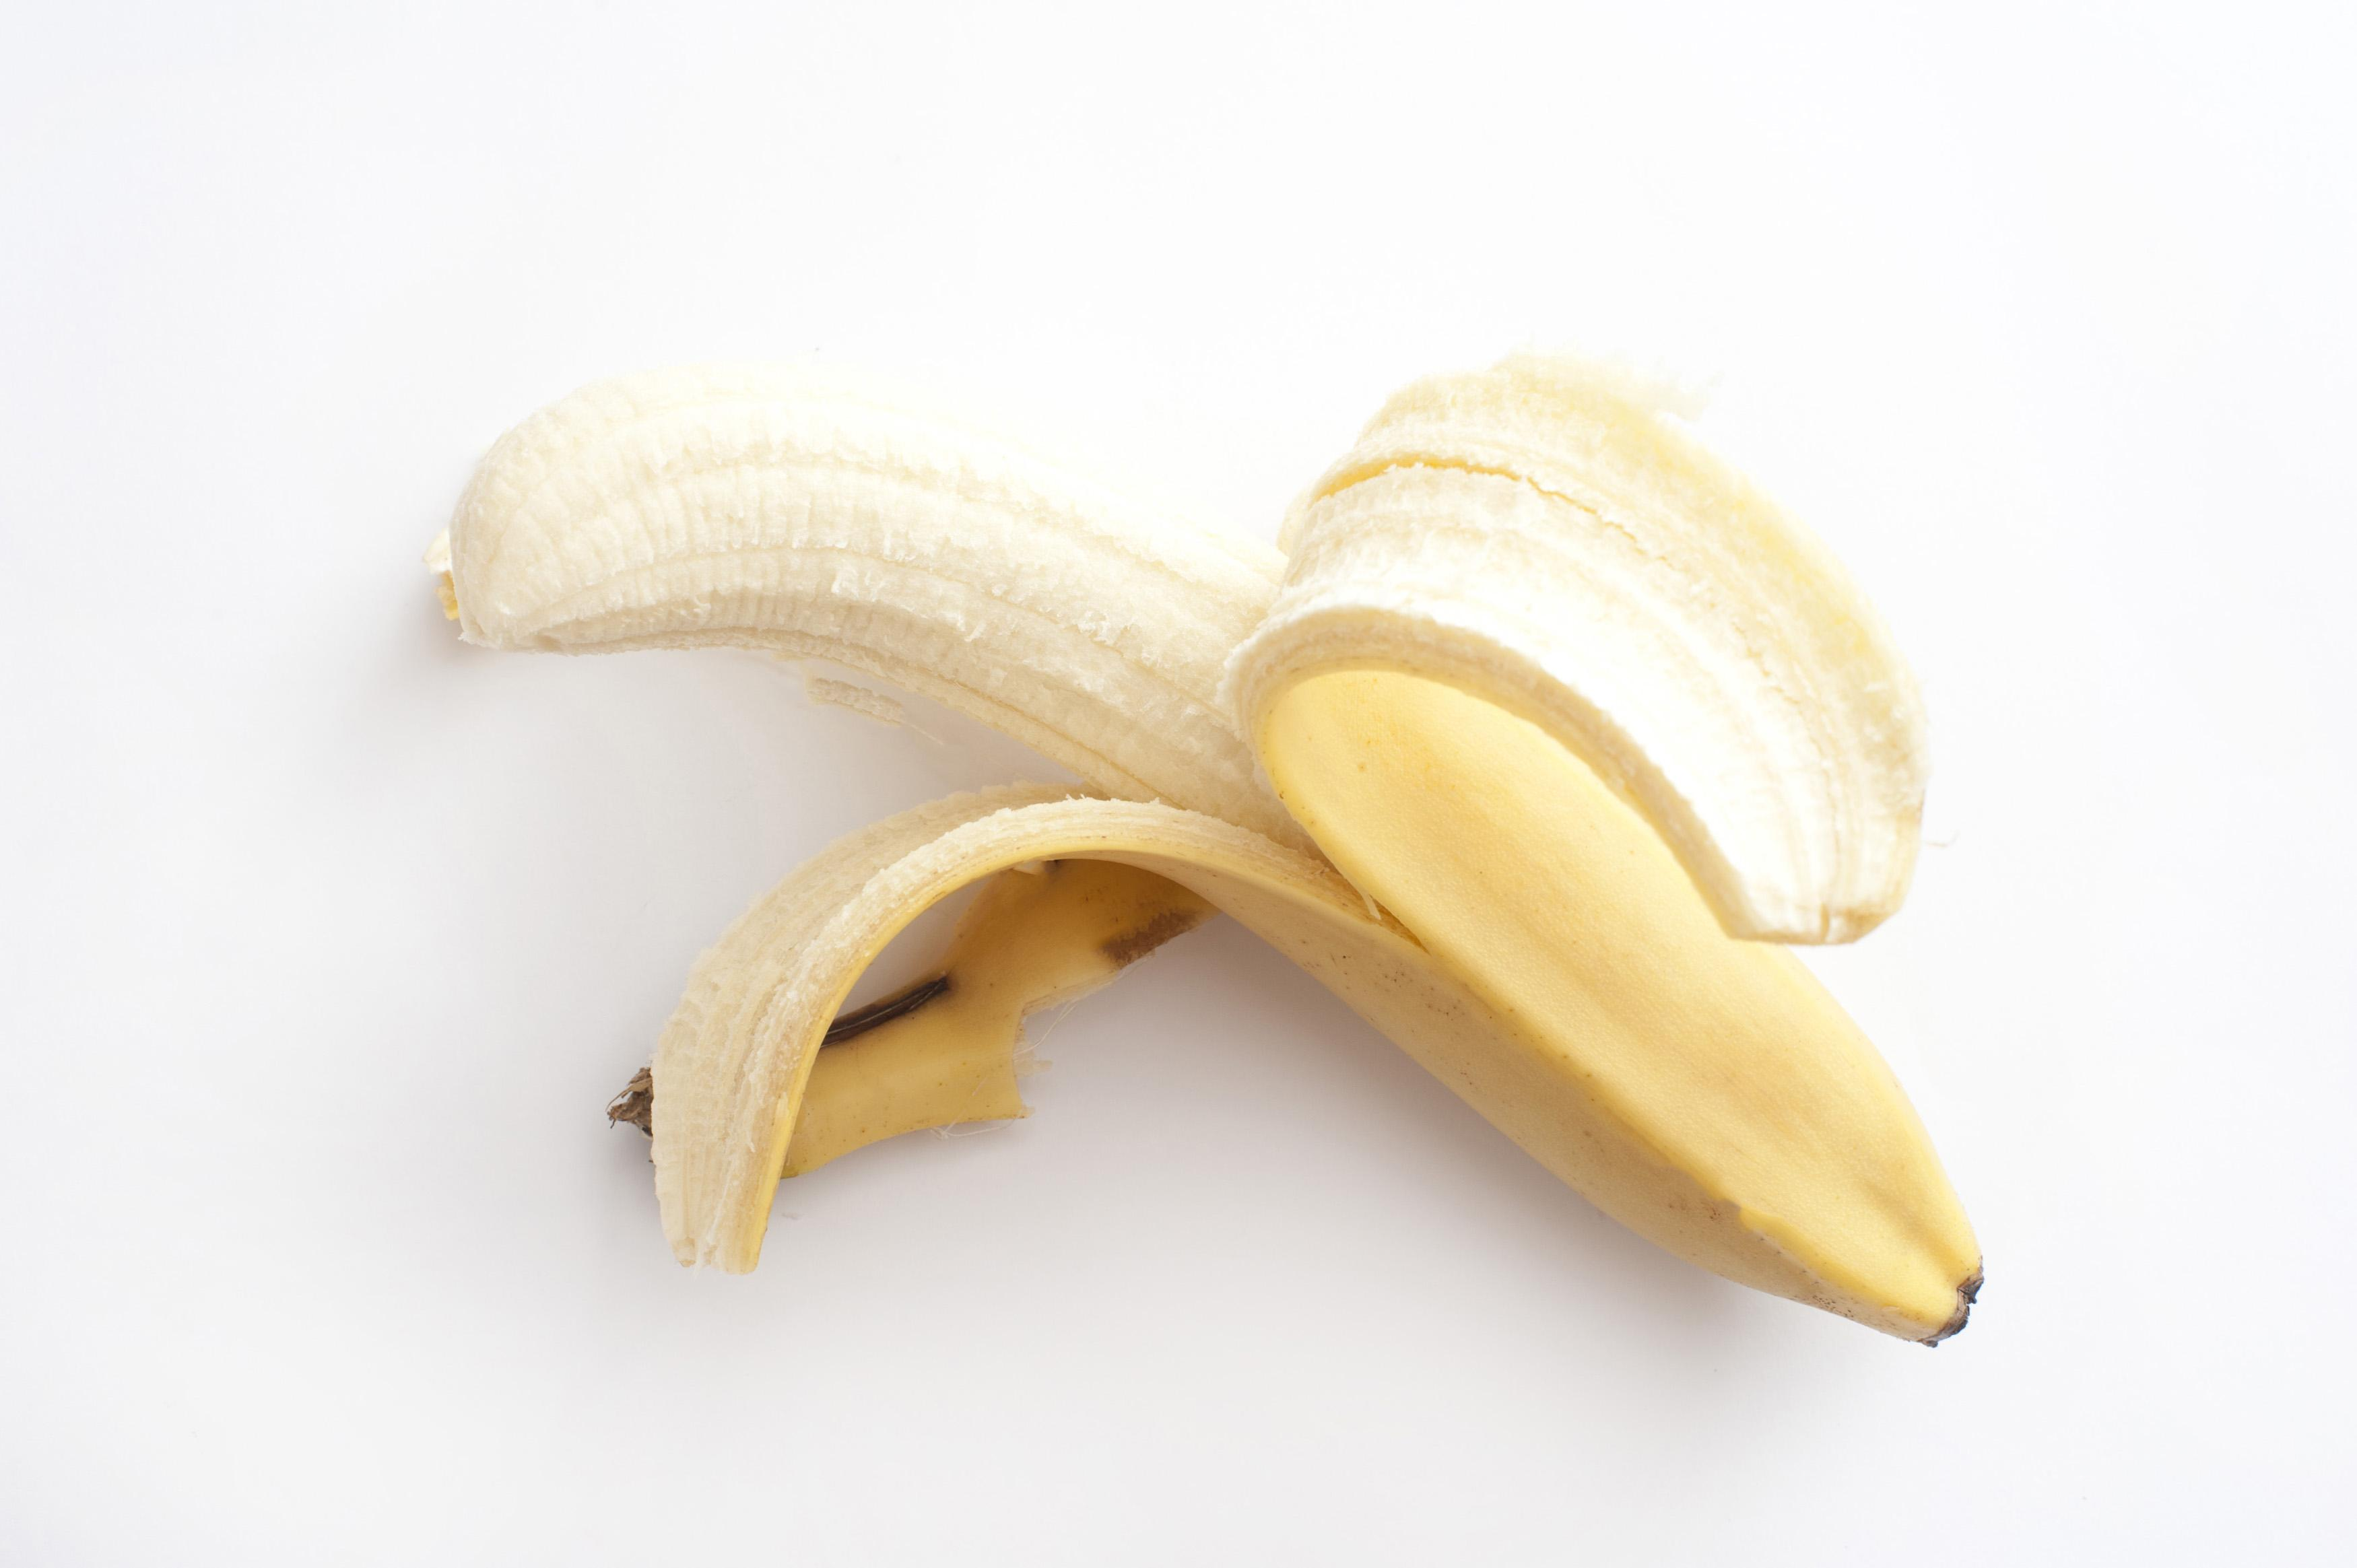non-mango: (427, 345, 1986, 1346)
